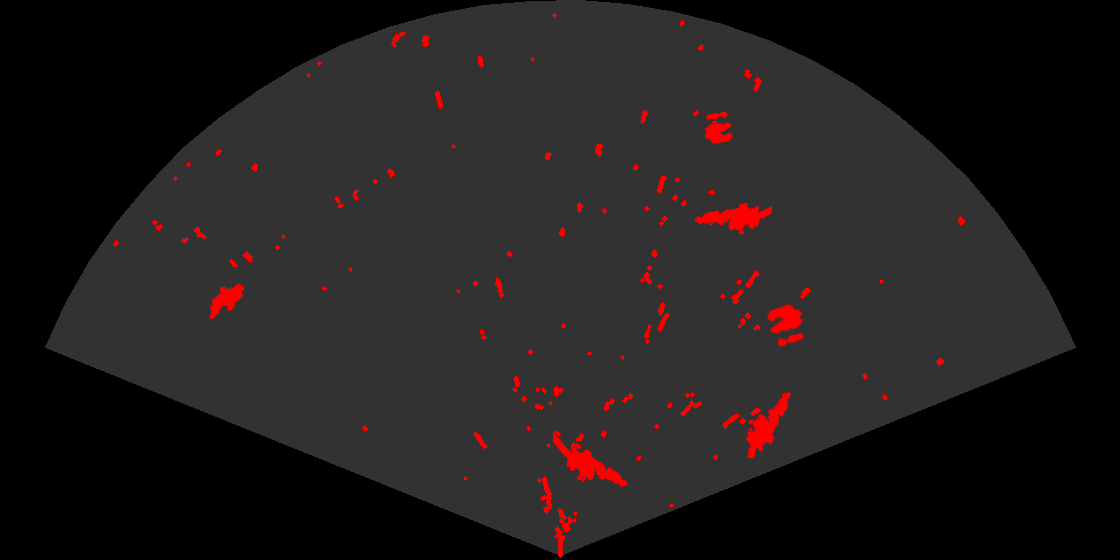AUV: (208, 282, 246, 321)
ball: (765, 302, 806, 348), (703, 110, 735, 146)
frogman: (553, 431, 629, 489), (744, 390, 792, 458), (693, 201, 772, 236)
